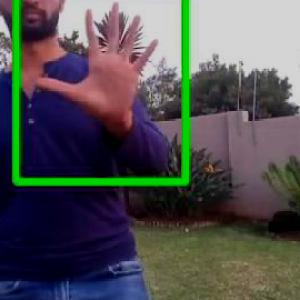follow_hand: (30, 0, 162, 125)
